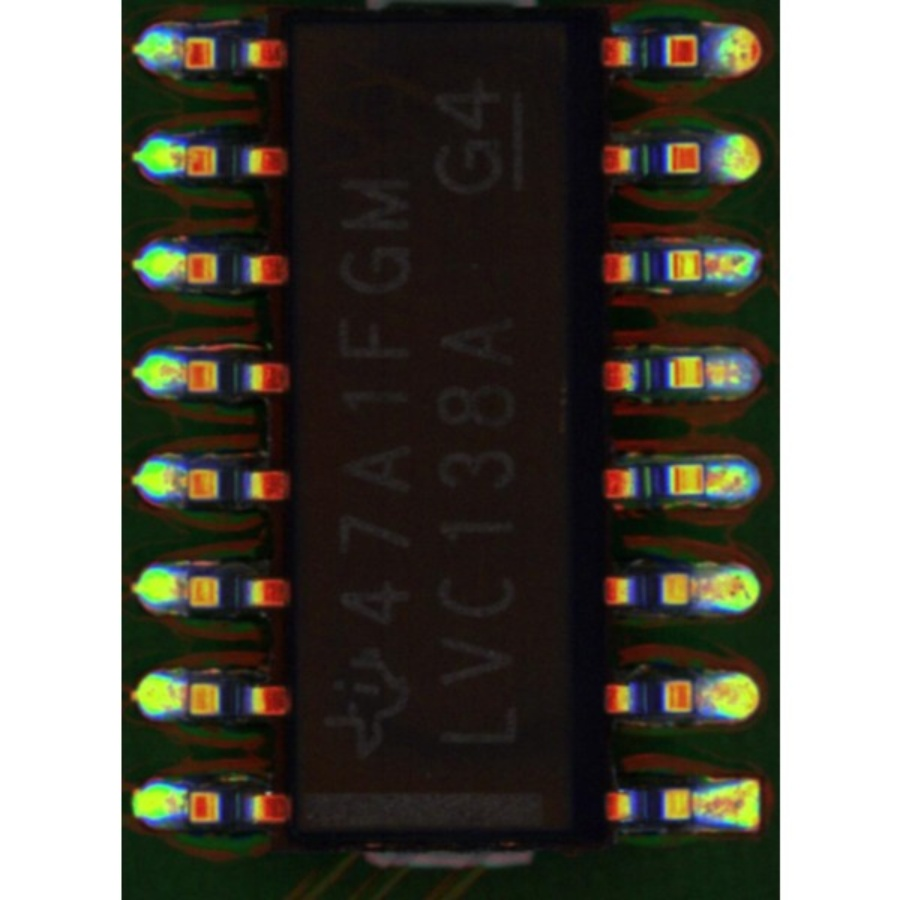Bad_podu: (681, 363, 725, 385), (683, 255, 726, 277), (681, 471, 726, 491), (677, 577, 711, 602)
